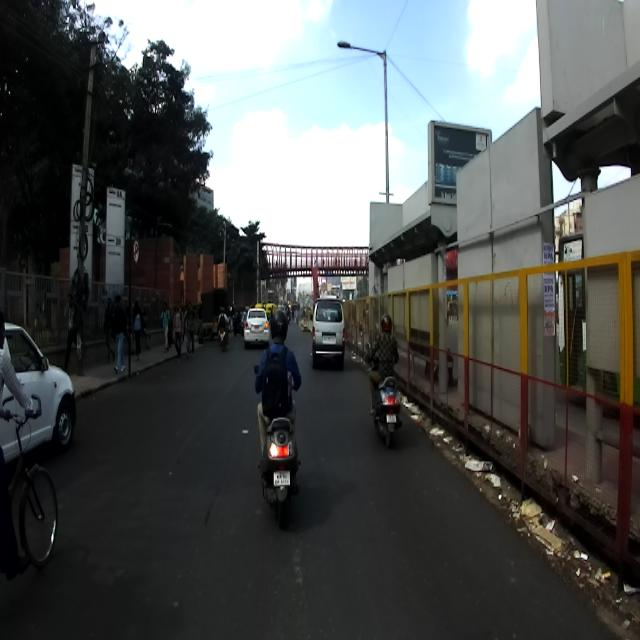bicycle ahead at: (2, 396, 64, 578)
electric pole ahead at: (66, 34, 117, 367)
motorcycle ahead at: (247, 408, 307, 512), (364, 373, 408, 447)
